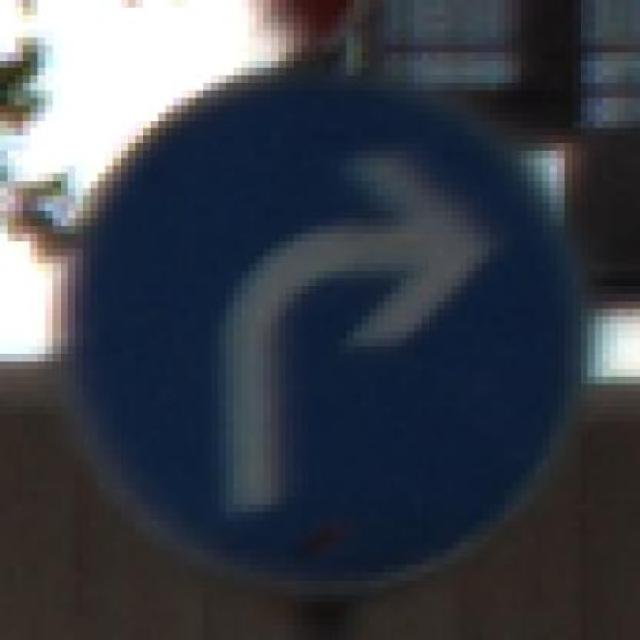Turn right ahead: (51, 37, 602, 588)
